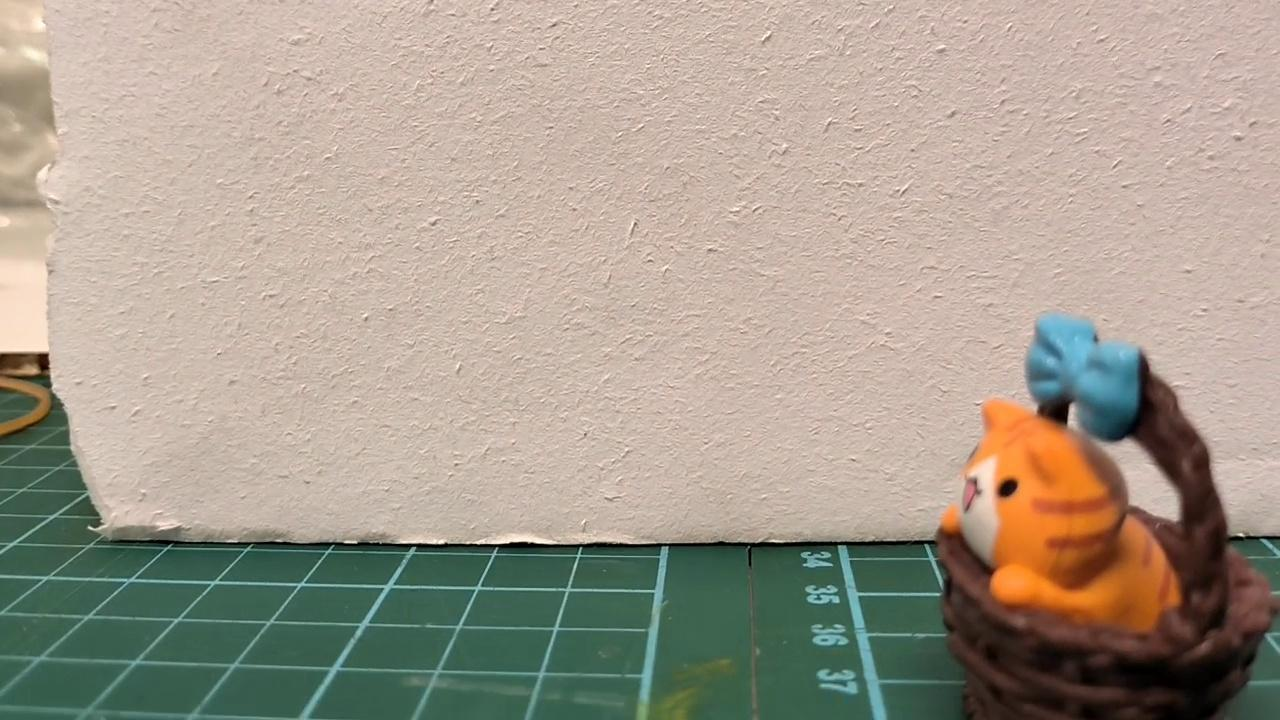pet: (937, 385, 1201, 648)
